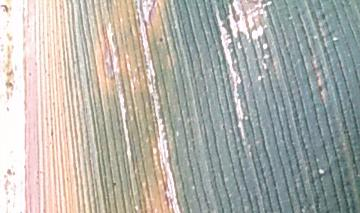tarspot: (157, 34, 165, 47)
